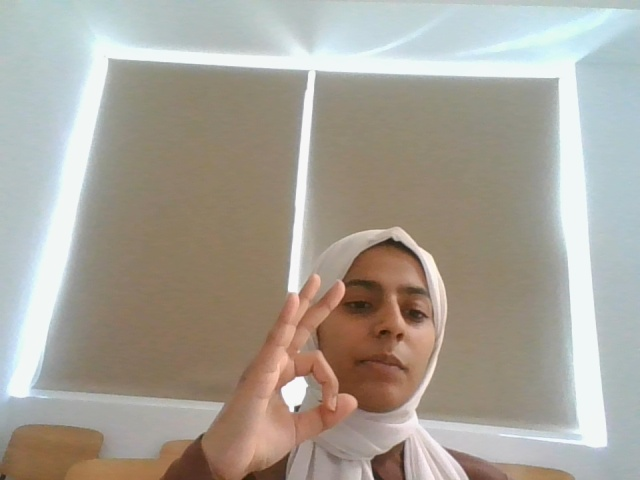okay: (252, 269, 359, 453)
